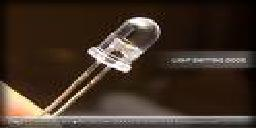LED: (87, 13, 163, 81)
